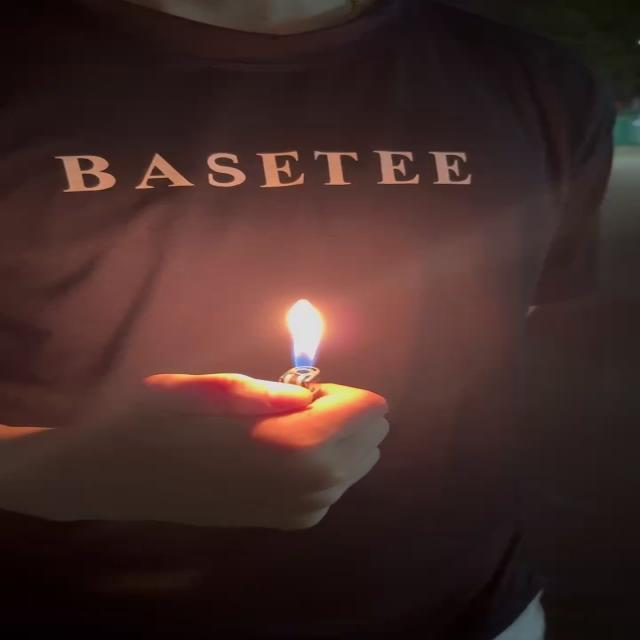Fire: (286, 297, 334, 375)
